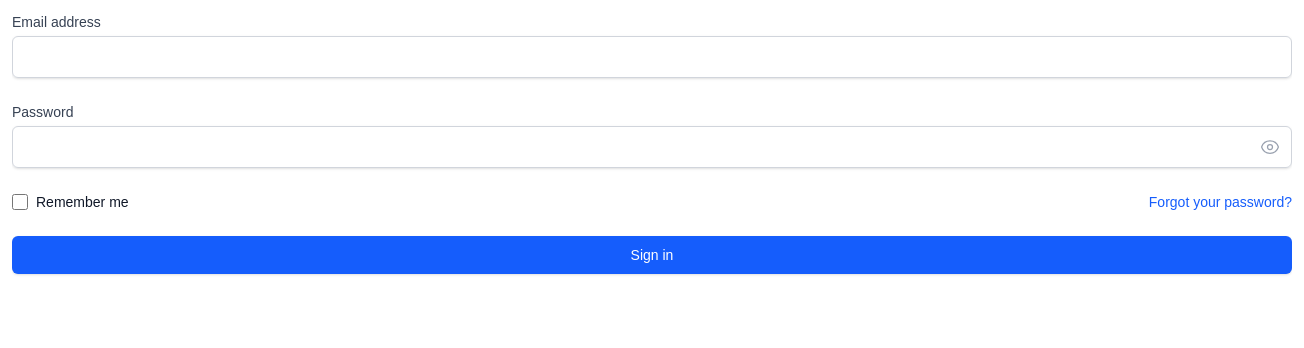
it: LoginForm › should show validation error for invalid email format
Type "invalid-email" into the field labelled "Email address" at (652, 57), box [12, 36, 1292, 78]
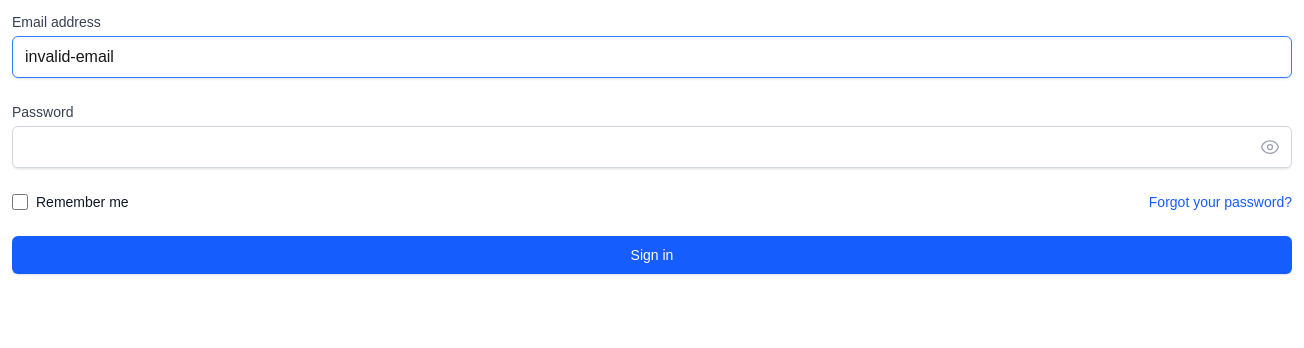
Click the button "Sign in" at (652, 255), box [12, 236, 1292, 274]
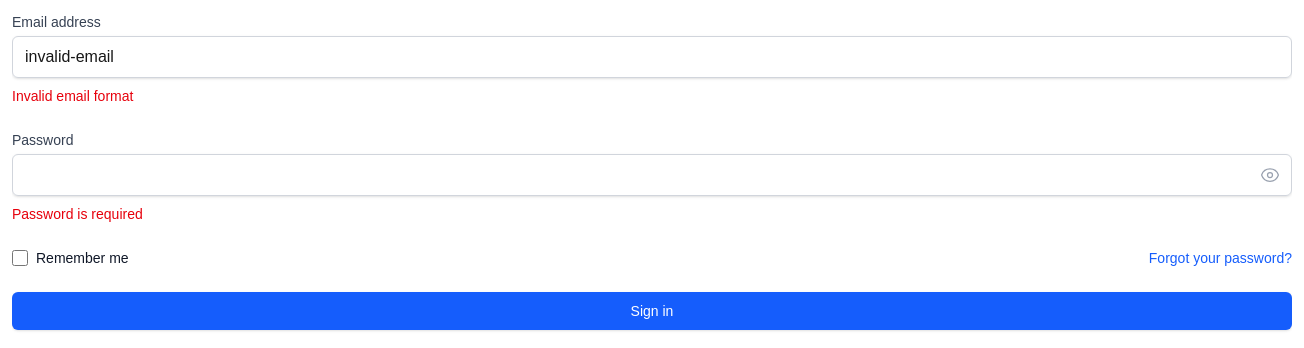
Check: the text "Invalid email format" is shown, box [12, 88, 133, 104]
